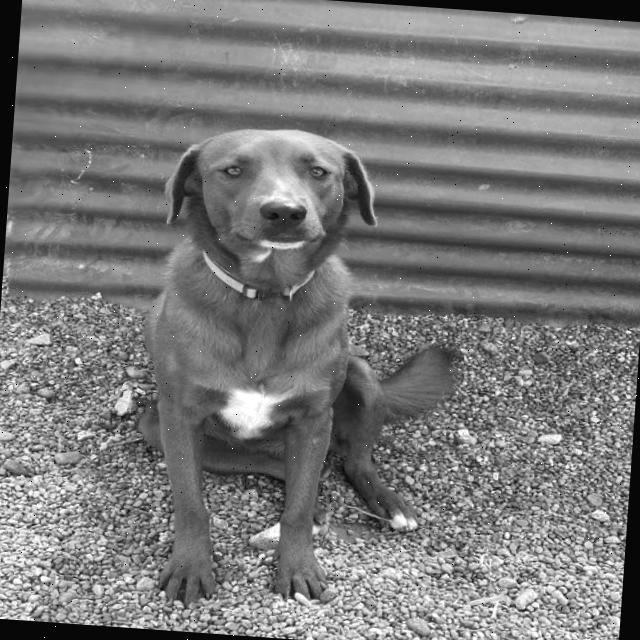labrador_retriever_dog: (141, 113, 394, 292)
